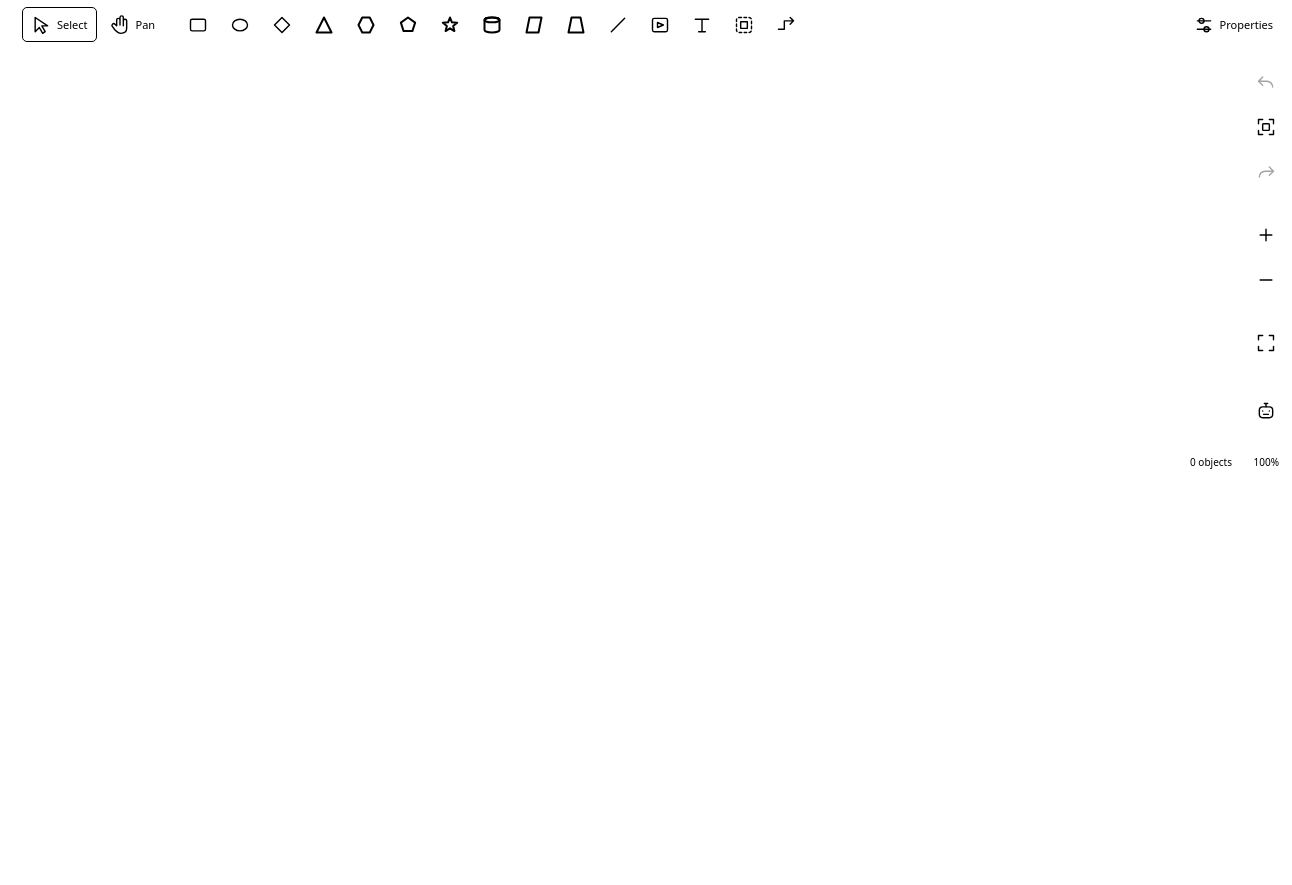
Test case: manual LCANVAS editor › keeps hidden objects inspectable through the object list without drawing their selection frame
Click the button with aria-label "Open object properties" at (1233, 24), box [1185,7,1282,42]
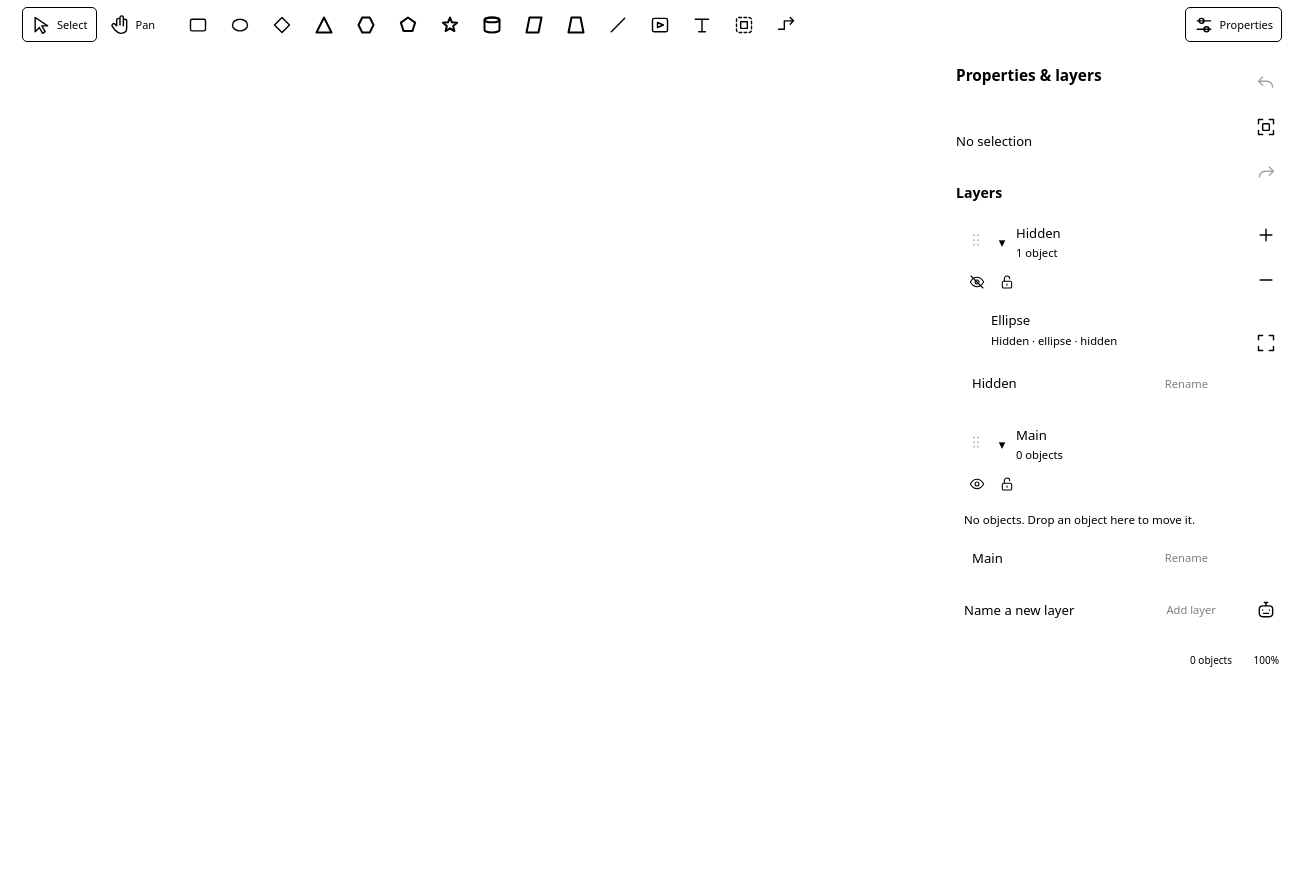
Click the button with aria-label "Select Ellipse on Hidden" at (1100, 330), box [983,305,1216,354]
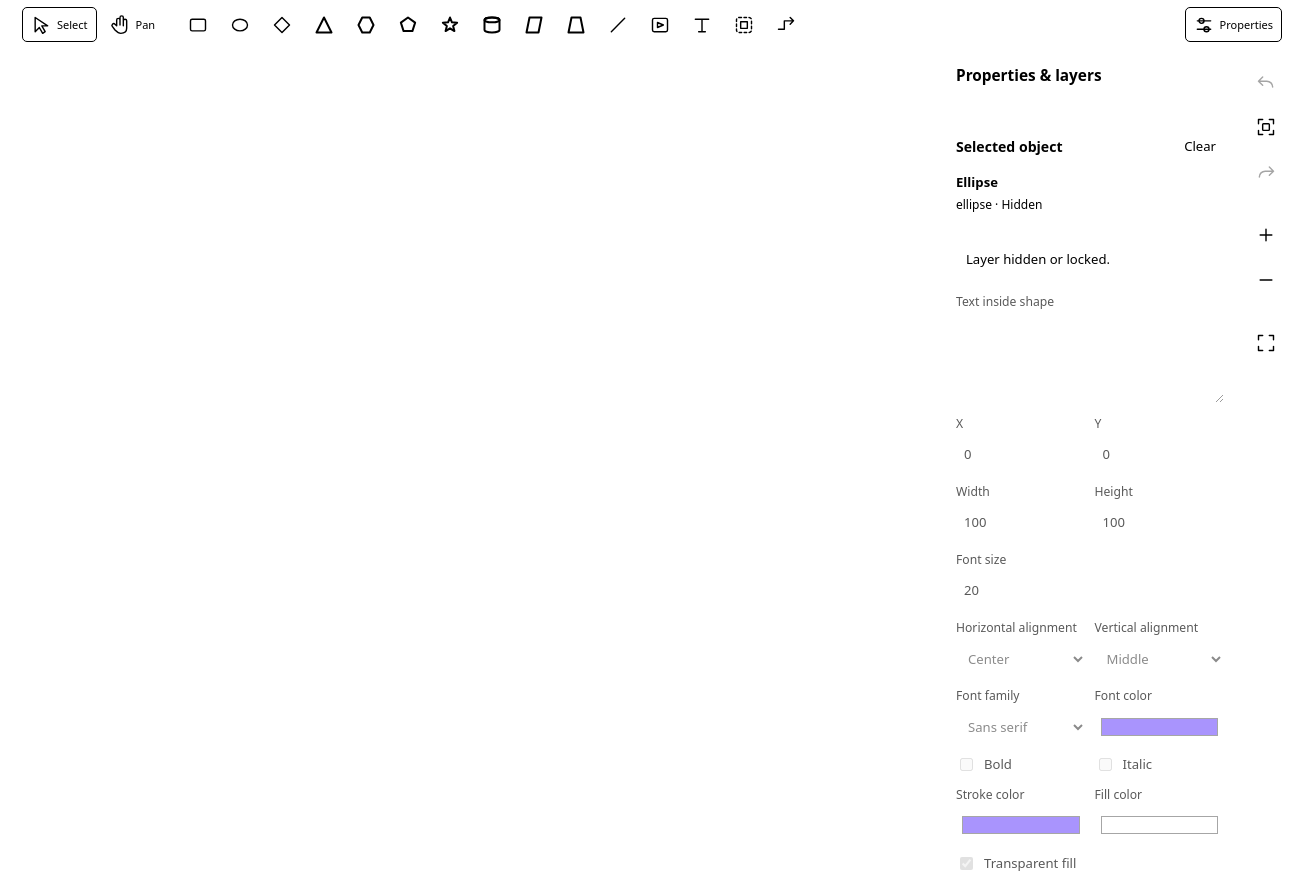
Now the text "Layer hidden or locked." is shown, box [966,250,1110,268]
Now the button with aria-label "Clear object selection" is shown, box [1176,131,1224,161]
